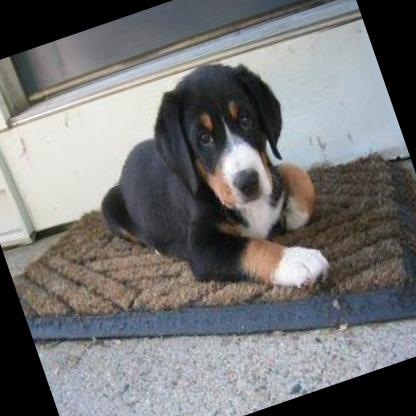EntleBucher: (62, 41, 342, 341)
